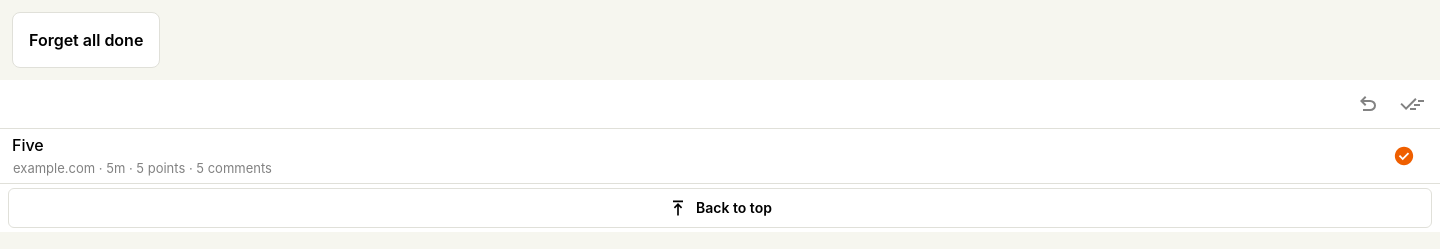
Test: <DonePage> › unmark done removes the row and writes a tombstone
Expected: the text "Five" is shown, [12, 135, 44, 155]
Step 1. Click the button named "unmark done" → {"x": 1404, "y": 156}, box [1380, 129, 1428, 183]
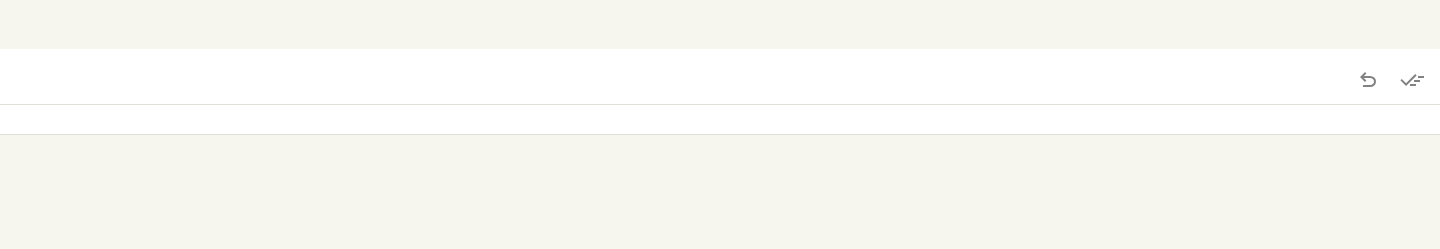
Expected: the link "Five" is gone
